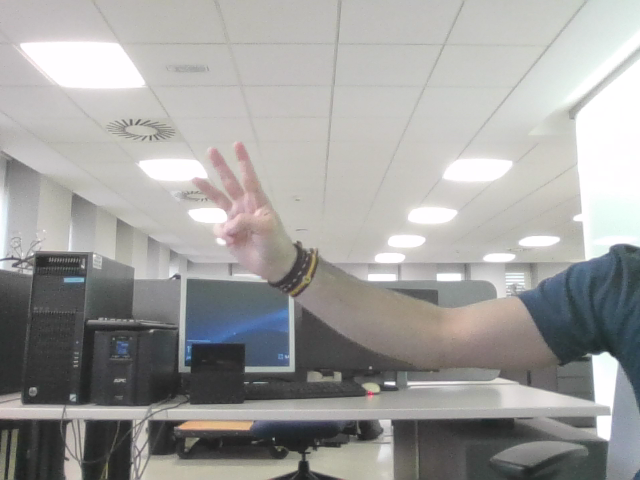3Dedos: (201, 151, 270, 239)
